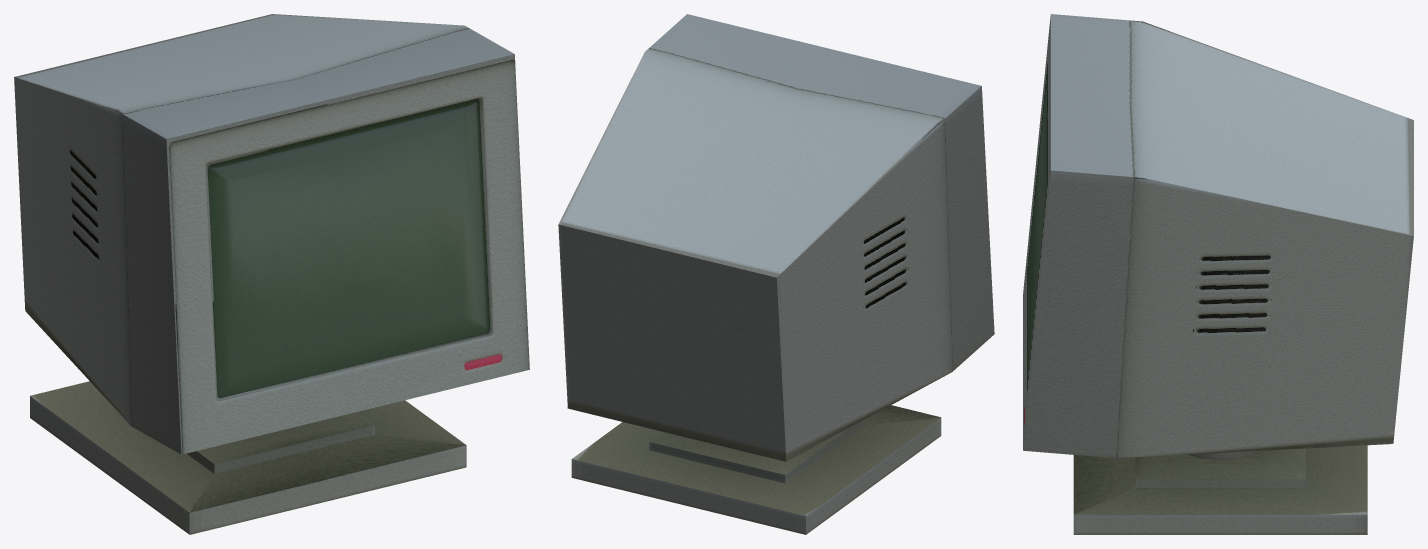
The model's file is monitor01.fbx.
3 renders of one model, left to right at view 1: azimuth 30°, elevation 25°; view 2: azimuth 150°, elevation 25°; view 3: azimuth 270°, elevation 25°, orthographic. The views are drawn at different scales.
Visible parts, largest first — view 1: Cube.006; view 2: Cube.006; view 3: Cube.006.
Boxes of the visible parts, bbox=[...] form: Cube.006: bbox=[14, 14, 529, 534]; Cube.006: bbox=[558, 14, 994, 534]; Cube.006: bbox=[1023, 14, 1413, 534].
Size of the model in its own units: 0.3775 by 0.3986 by 0.4283.
1 material, 1 textured.
